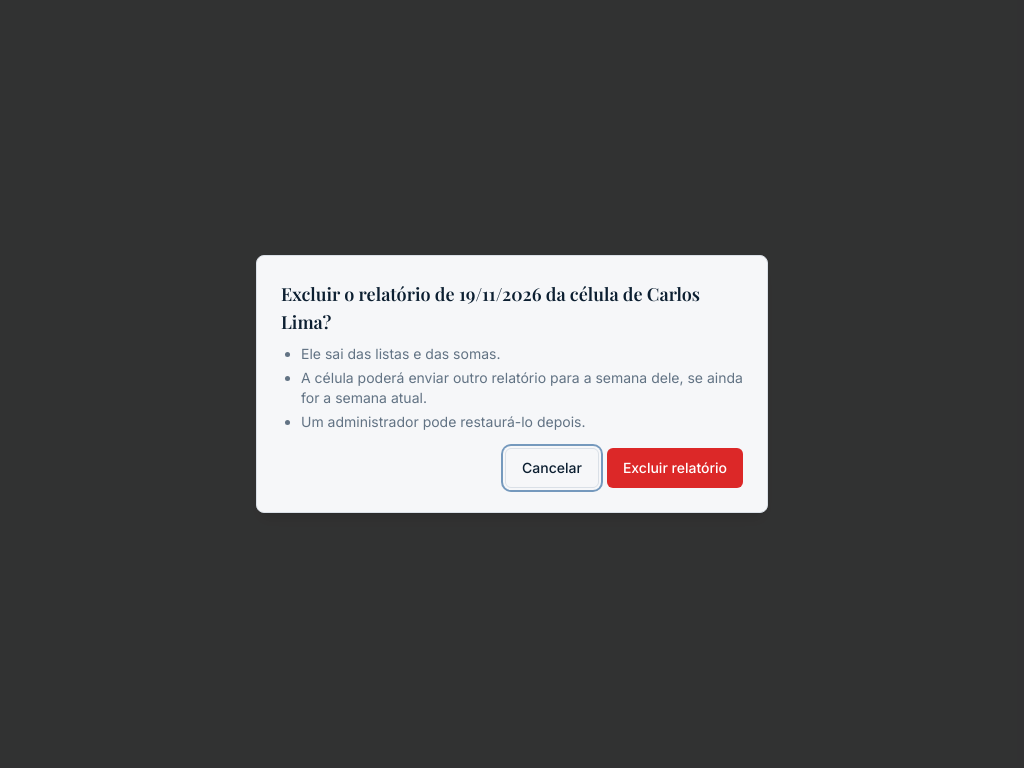
CellReportDeletionFlow: envio da exclusão › UX-06: durante a exclusão, 'Excluindo…', os dois botões indisponíveis, um duplo toque faz uma chamada só e Esc não fecha
The width and height of the screenshot is (1024, 768).
Later steps or results of the test are not shown.
Click the button "Excluir relatório".
click(675, 468)  # box [607, 448, 743, 488]
Click the button "Excluir relatório".
click(675, 468)  # box [607, 448, 743, 488]
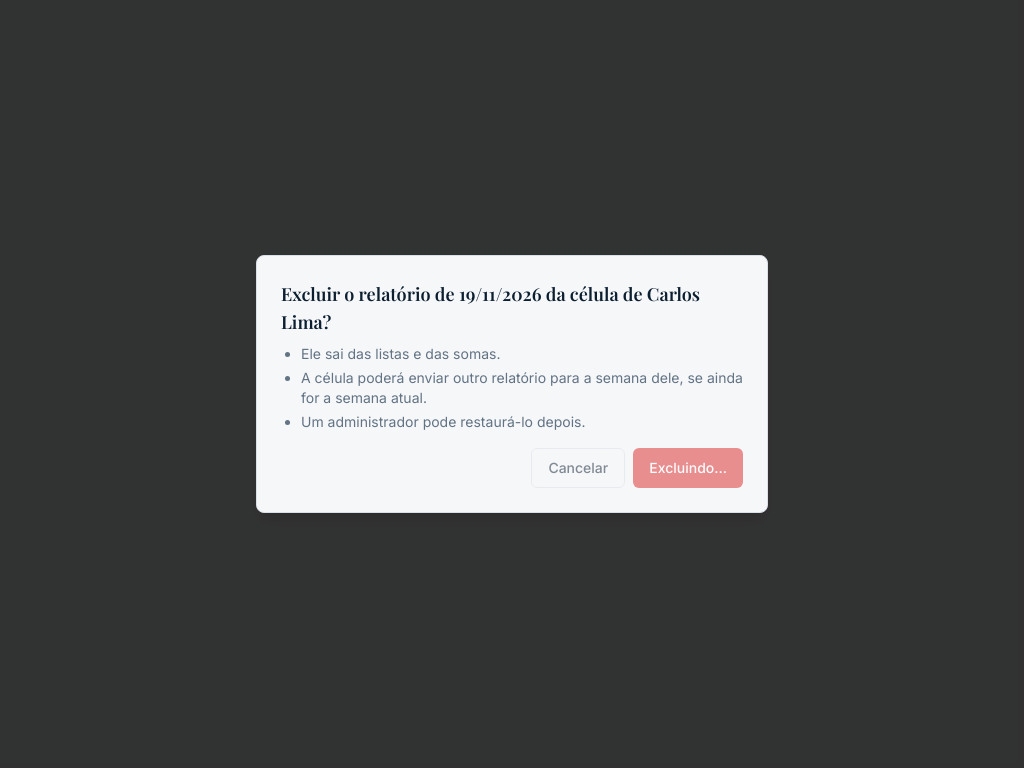
expect the button "Cancelar" is disabled: met, box [531, 448, 625, 488]
